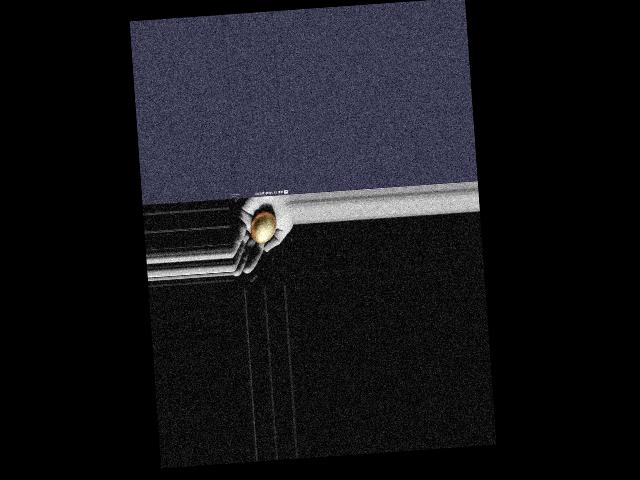egg: (249, 211, 277, 244)
